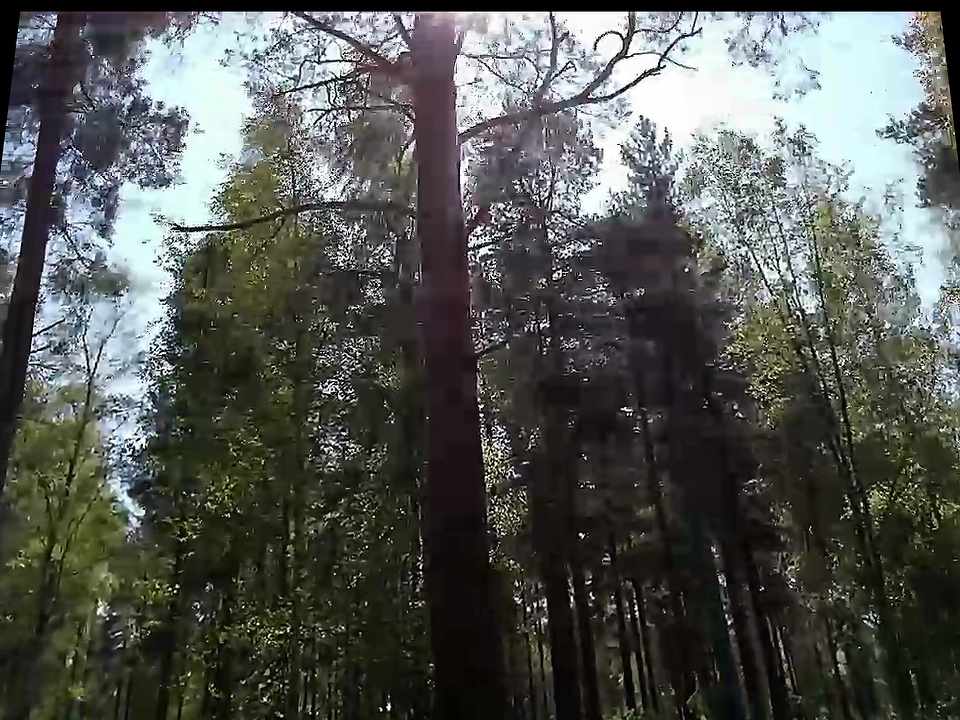branch: (157, 180, 409, 254), (322, 15, 384, 67), (518, 84, 579, 135), (467, 101, 528, 142), (307, 99, 383, 122), (473, 332, 525, 363)
trunk: (405, 38, 519, 701)
